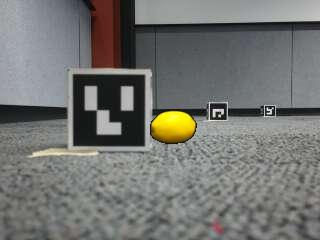lemon: (152, 112, 197, 144)
